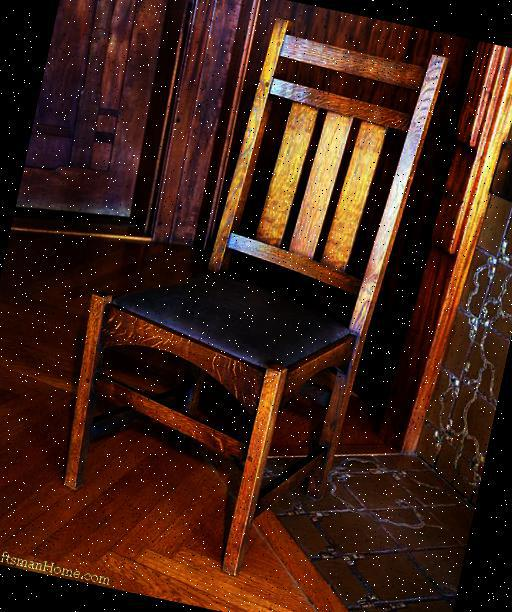Silla: (43, 0, 451, 596)
